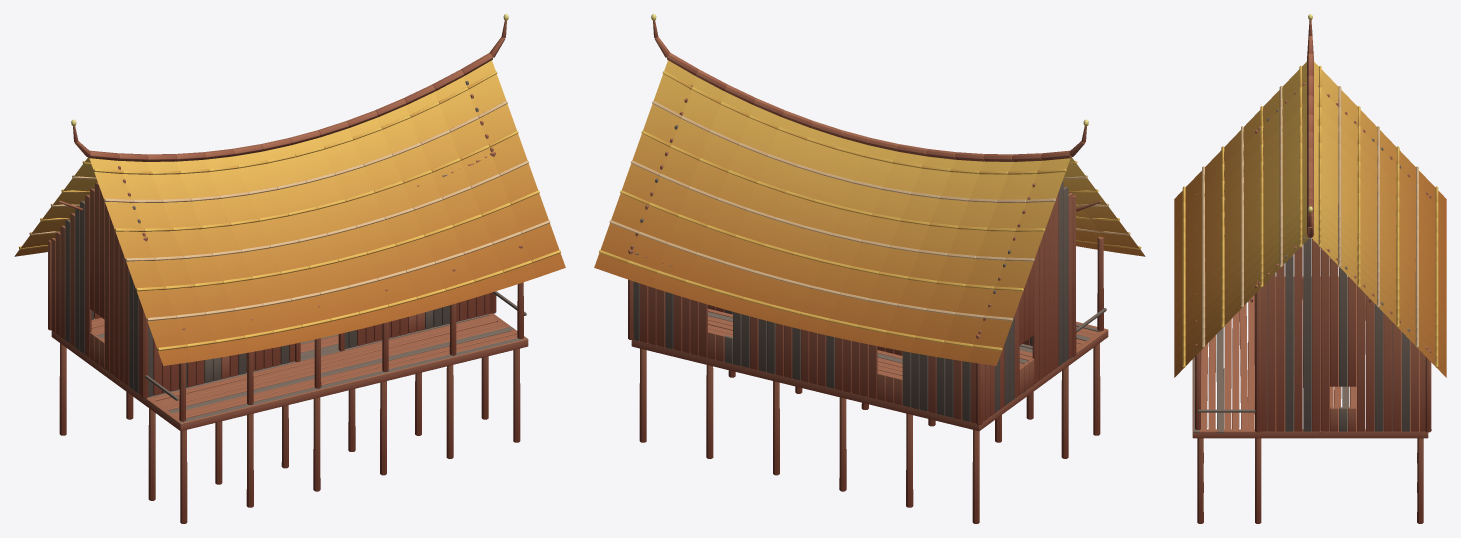
Rendered from stilt_hall.glb.
The picture shows the model from 3 angles, left to right: view 1: azimuth 30°, elevation 25°; view 2: azimuth 150°, elevation 25°; view 3: azimuth 270°, elevation 25°; orthographic projection. The views are drawn at different scales.
Visible parts, largest first — view 1: stilt_hall; view 2: stilt_hall; view 3: stilt_hall.
Boxes of the visible parts, x1=… form: stilt_hall: x1=14, y1=14, x2=565, y2=523; stilt_hall: x1=594, y1=14, x2=1145, y2=523; stilt_hall: x1=1174, y1=14, x2=1446, y2=523.
Bounding box in the file's own units: 17.59 × 14.27 × 10.4.
Materials: 1 (1 with a texture image).
